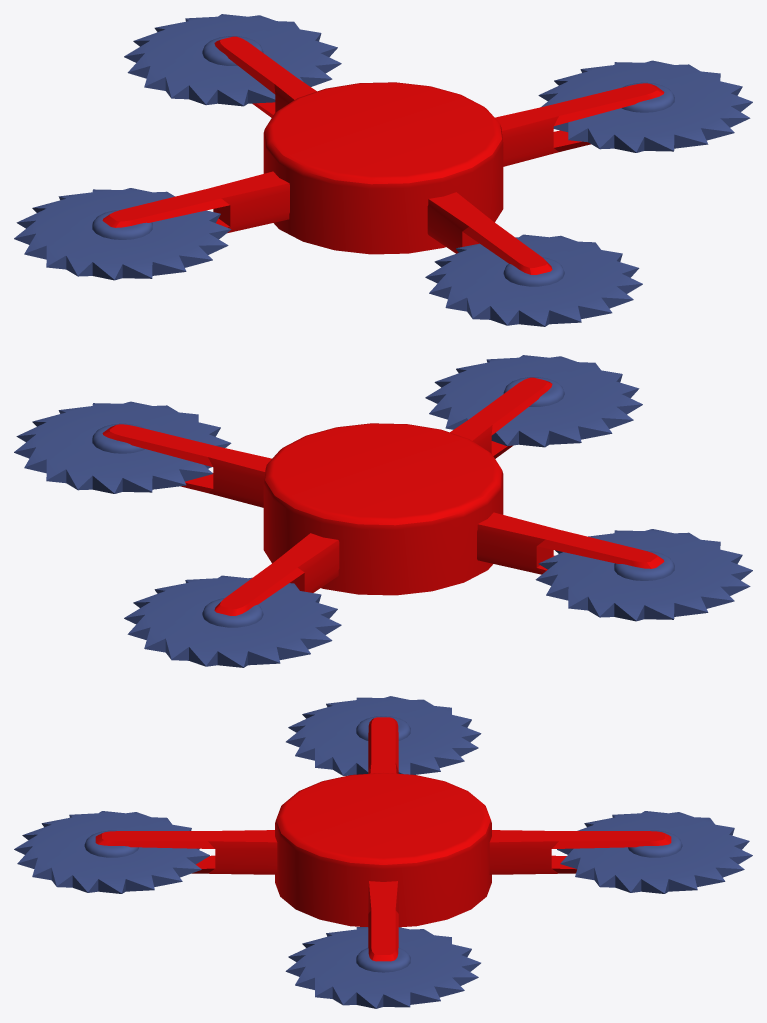
Rendered from Saw_B_Quaternary.fbx.
3 renders of one model, top to bottom at view 1: azimuth 30°, elevation 25°; view 2: azimuth 150°, elevation 25°; view 3: azimuth 270°, elevation 25°, orthographic. The views are drawn at different scales.
Visible parts, largest first — view 1: Saw_B_Quaternary, Saw_B_Quarternary_2, Saw_B_Quarternary_3, Saw_B_Quarternary_1, Saw_B_Quarternary_4; view 2: Saw_B_Quaternary, Saw_B_Quarternary_4, Saw_B_Quarternary_3, Saw_B_Quarternary_1, Saw_B_Quarternary_2; view 3: Saw_B_Quaternary, Saw_B_Quarternary_1, Saw_B_Quarternary_2, Saw_B_Quarternary_4, Saw_B_Quarternary_3.
Boxes of the visible parts, x1,y1,x2,y2 form: Saw_B_Quaternary: (102, 36, 664, 274); Saw_B_Quarternary_2: (425, 234, 642, 326); Saw_B_Quarternary_3: (14, 188, 231, 280); Saw_B_Quarternary_1: (538, 60, 752, 152); Saw_B_Quarternary_4: (124, 14, 341, 106); Saw_B_Quaternary: (102, 377, 664, 615); Saw_B_Quarternary_4: (124, 575, 341, 667); Saw_B_Quarternary_3: (535, 529, 752, 621); Saw_B_Quarternary_1: (14, 401, 231, 493); Saw_B_Quarternary_2: (425, 355, 642, 447); Saw_B_Quaternary: (95, 717, 671, 961); Saw_B_Quarternary_1: (285, 927, 480, 1008); Saw_B_Quarternary_2: (14, 811, 209, 893); Saw_B_Quarternary_4: (557, 811, 752, 893); Saw_B_Quarternary_3: (286, 696, 481, 775).
Bounding box in the file's own units: 201 × 19.99 × 201.
